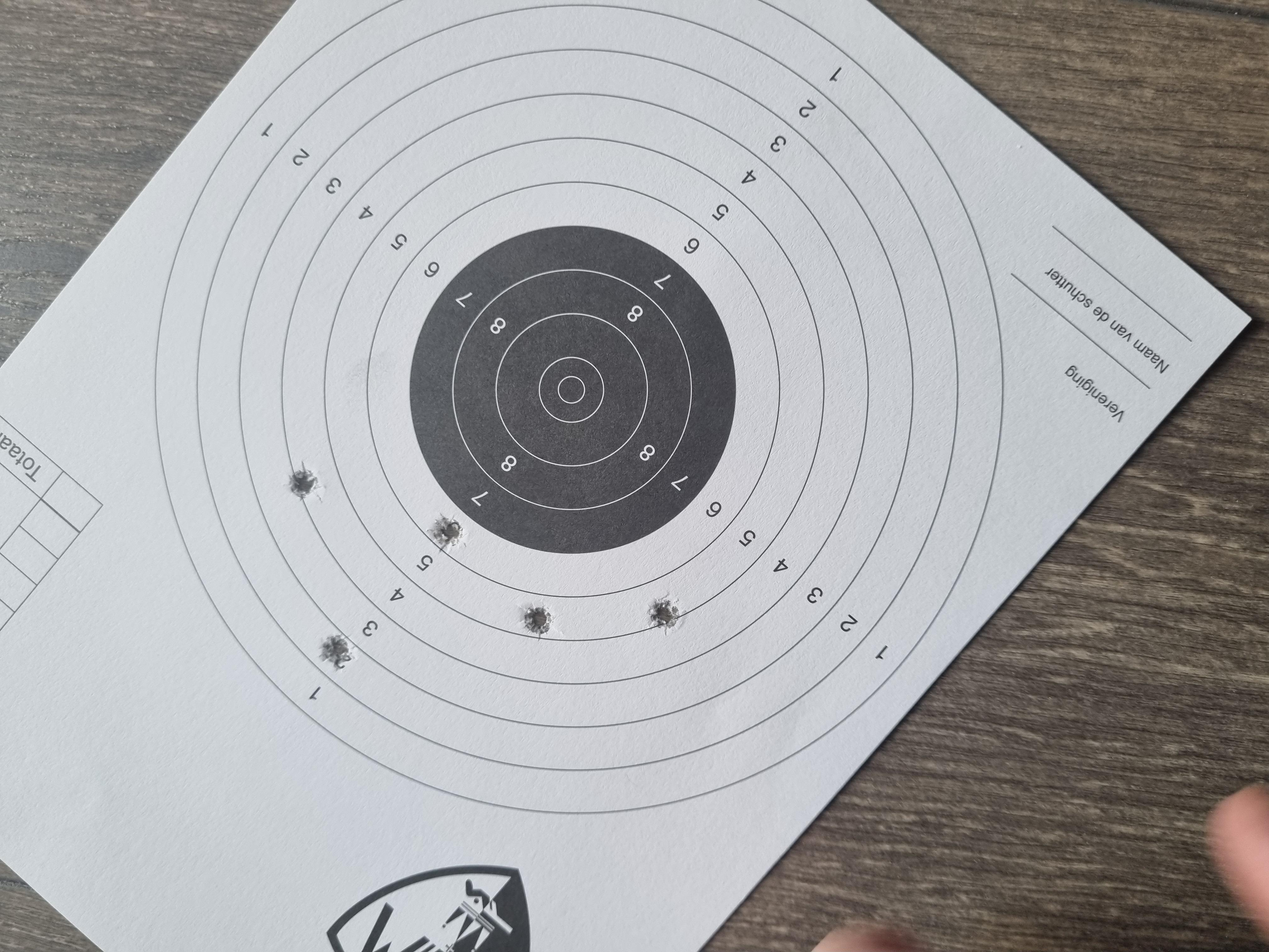hole: (420, 485, 476, 511), (532, 320, 585, 346), (598, 214, 654, 238), (414, 391, 463, 414), (373, 241, 423, 262)
